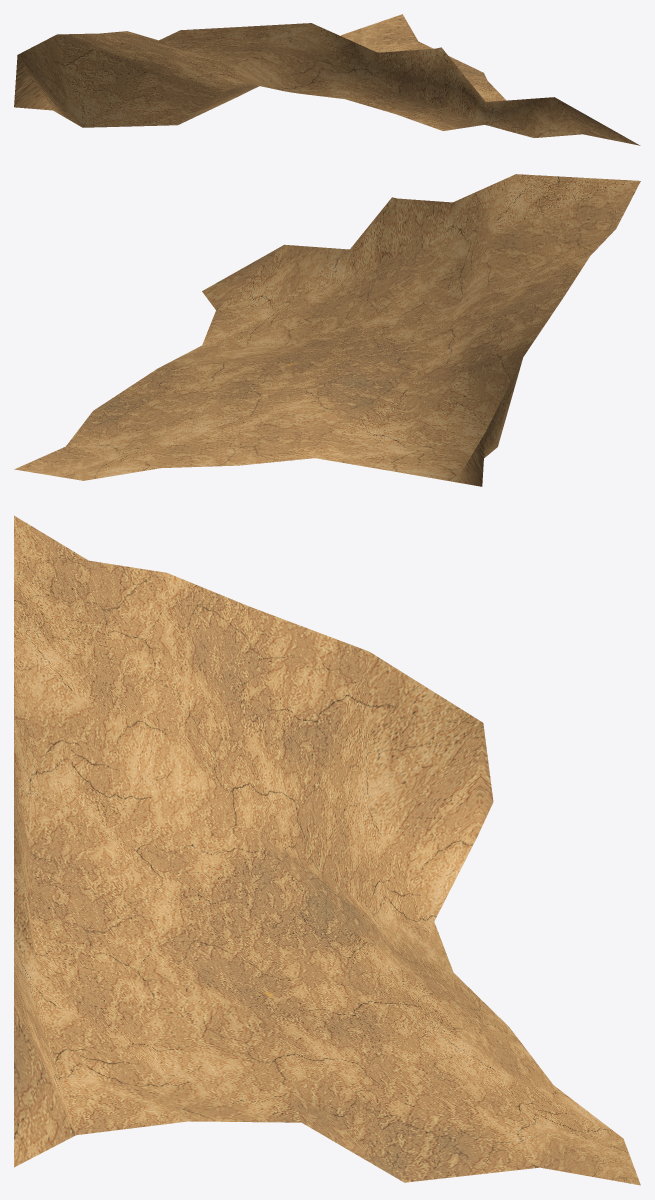
The model's file is Sand_Corner_01.fbx.
3 views of the same model, one above another, from view 1: azimuth 30°, elevation 25°; view 2: azimuth 150°, elevation 25°; view 3: azimuth 270°, elevation 25° (orthographic). The views are drawn at different scales.
Parts seen in each view (by area): view 1: pPlane13; view 2: pPlane13; view 3: pPlane13.
Boxes of the visible parts, x1,y1,x2,y2 form: pPlane13: [14, 14, 640, 145]; pPlane13: [14, 174, 640, 486]; pPlane13: [14, 515, 640, 1185].
Bounding box in the file's own units: 302 × 157 × 247.
